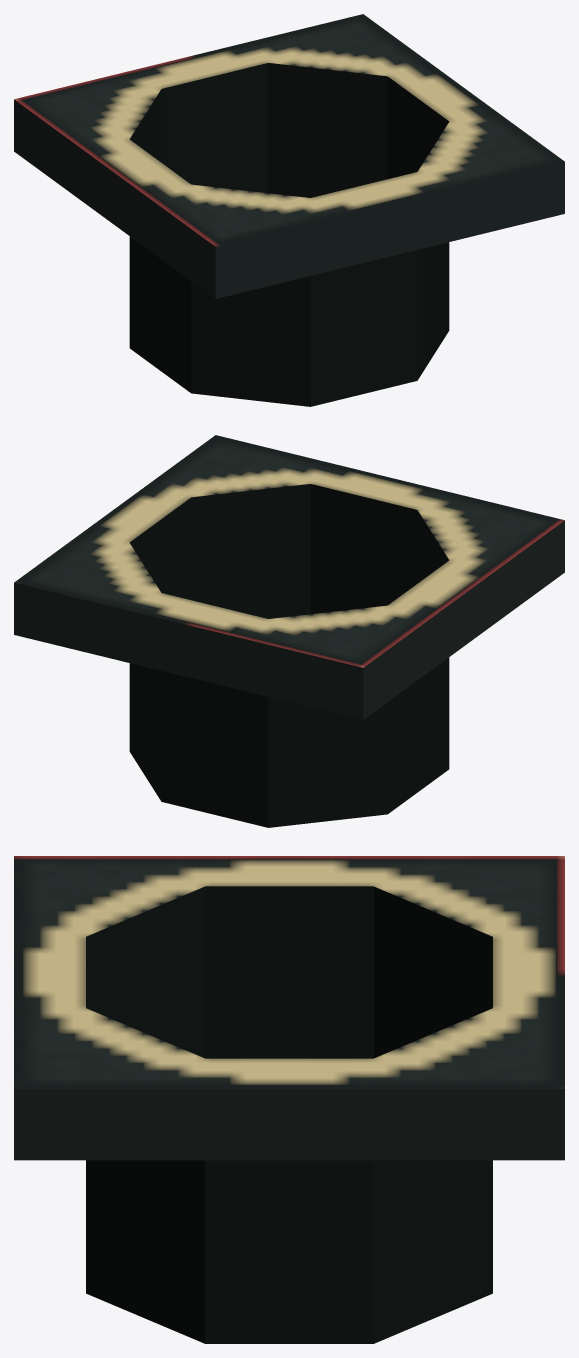
Rendered from SM_LabPanel_Socket_Sample_14x14x8.fbx.
3 renders of one model, top to bottom at view 1: azimuth 30°, elevation 25°; view 2: azimuth 150°, elevation 25°; view 3: azimuth 270°, elevation 25°, orthographic. The views are drawn at different scales.
Visible parts, largest first — view 1: SM_LabPanel_Socket_Sample_14x14x8.001; view 2: SM_LabPanel_Socket_Sample_14x14x8.001; view 3: SM_LabPanel_Socket_Sample_14x14x8.001.
Part boxes in pixels (left/top/right/bottom): SM_LabPanel_Socket_Sample_14x14x8.001: left=14, top=14, right=564, bottom=406; SM_LabPanel_Socket_Sample_14x14x8.001: left=14, top=435, right=564, bottom=827; SM_LabPanel_Socket_Sample_14x14x8.001: left=14, top=856, right=564, bottom=1343.
Bounding box in the file's own units: 0.14 × 0.08 × 0.14.
